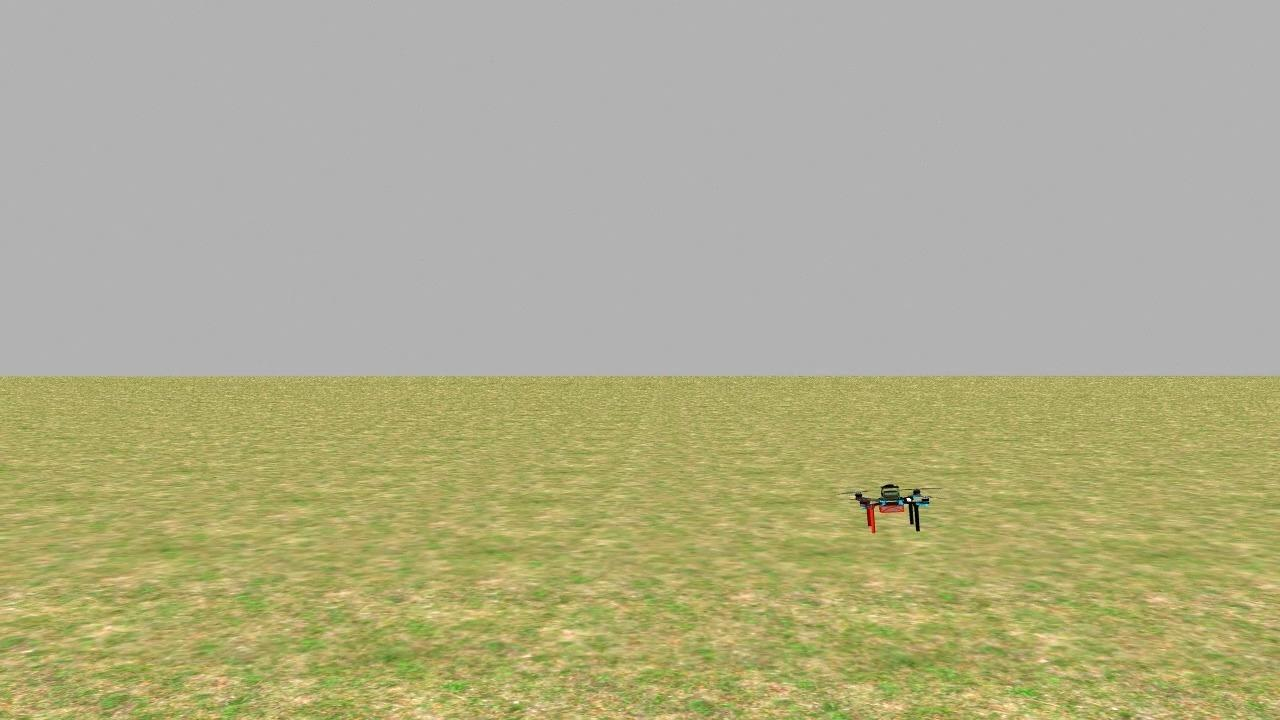UAV: (849, 471, 940, 539)
